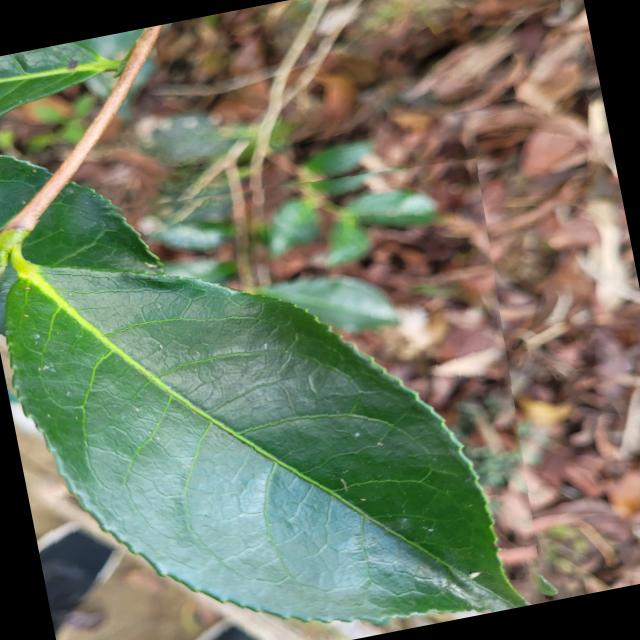Category D(7+ days, Not for Tea): (0, 133, 561, 640)
